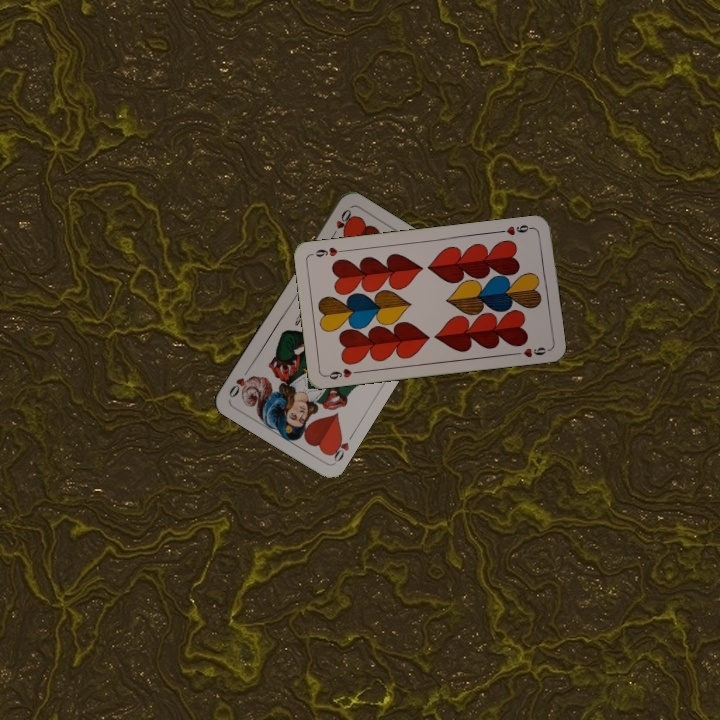H9: (322, 364, 363, 382), (495, 221, 536, 238)
HO: (325, 429, 357, 465), (326, 205, 354, 241)
